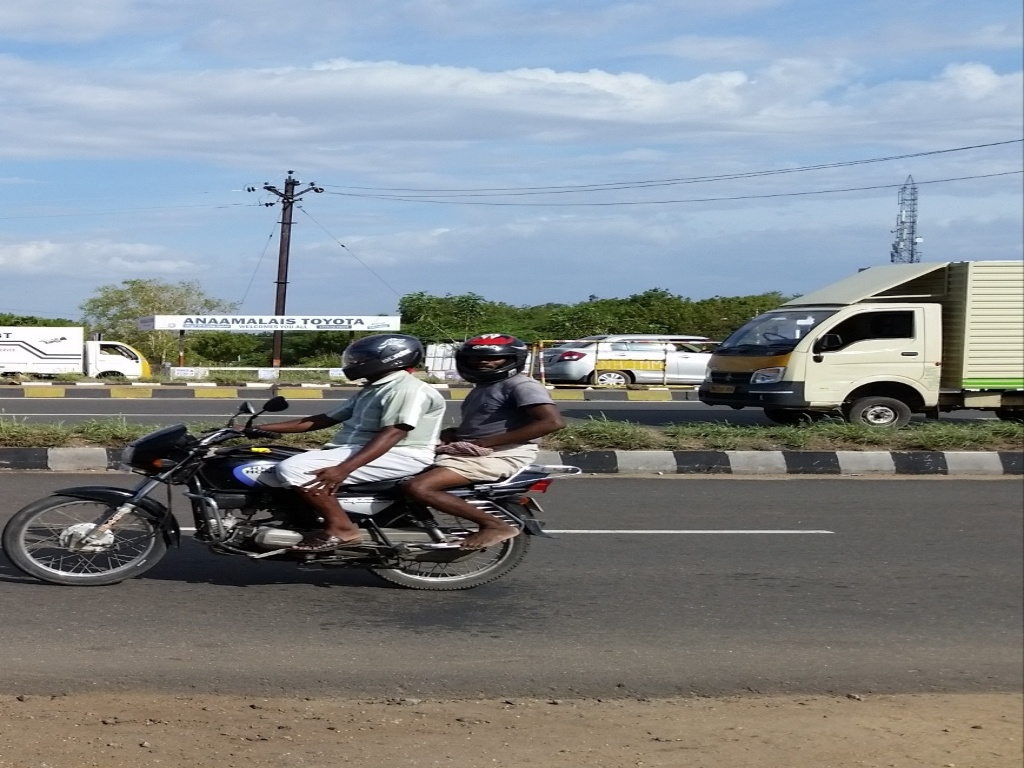biker: (1, 263, 586, 614)
helmet: (330, 317, 440, 396), (439, 321, 549, 400)
